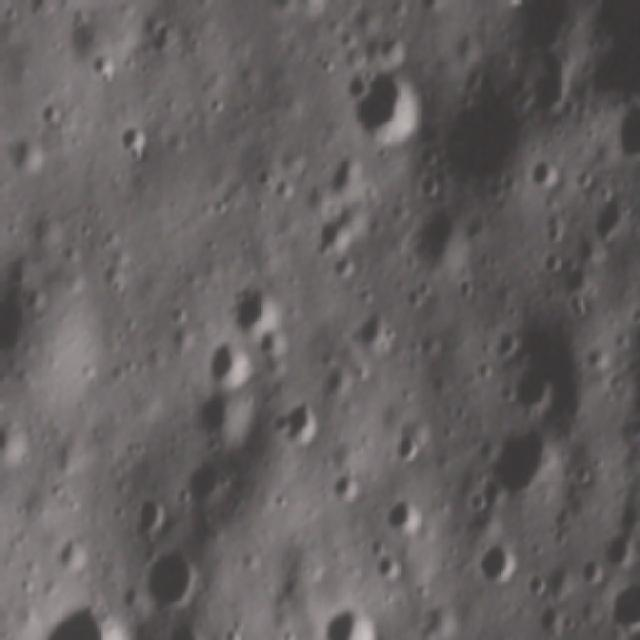crater: (437, 81, 523, 188), (478, 424, 559, 507), (347, 66, 431, 142), (410, 198, 476, 273), (32, 591, 126, 640), (142, 542, 204, 610), (527, 42, 584, 109), (185, 388, 244, 448), (268, 394, 321, 452), (467, 538, 527, 588), (581, 188, 630, 248), (230, 276, 281, 332), (204, 332, 256, 386), (0, 403, 37, 474), (181, 452, 225, 511), (0, 128, 46, 184), (513, 0, 578, 38), (321, 601, 384, 640), (348, 302, 398, 351), (322, 144, 364, 201), (510, 363, 555, 415), (107, 112, 150, 163), (375, 493, 419, 541), (79, 44, 124, 87), (126, 486, 165, 534), (525, 147, 567, 191), (607, 579, 640, 635), (609, 100, 640, 158), (142, 8, 178, 52), (600, 526, 635, 568), (572, 552, 608, 590), (372, 546, 408, 582), (32, 91, 68, 124), (162, 617, 204, 640), (536, 244, 566, 276), (498, 0, 527, 3)
